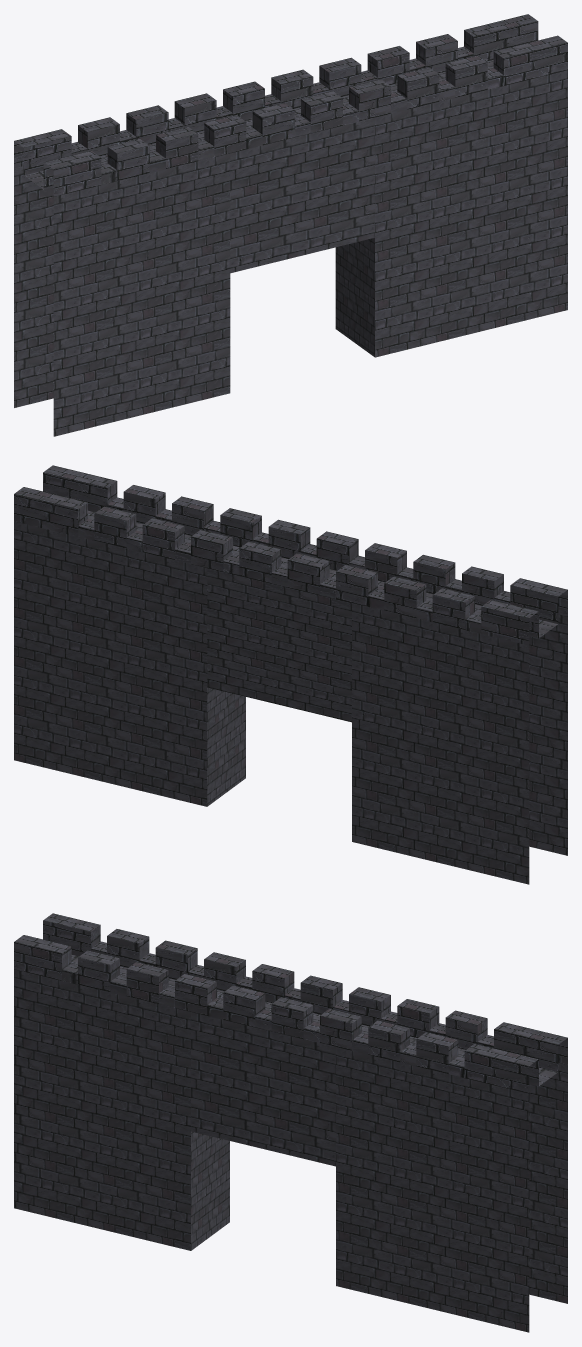
The model's file is muralhaaberta.fbx.
3 renders of one model, top to bottom at view 1: azimuth 30°, elevation 25°; view 2: azimuth 150°, elevation 25°; view 3: azimuth 330°, elevation 25°, orthographic.
Parts seen in each view (by area): view 1: Cube.038; view 2: Cube.038; view 3: Cube.038.
Boxes of the visible parts, x1,y1,x2,y2 form: Cube.038: [14, 14, 567, 436]; Cube.038: [14, 465, 567, 884]; Cube.038: [14, 913, 567, 1332].
Bounding box in the file's own units: 2538 × 1256 × 346.
1 material, 1 textured.
